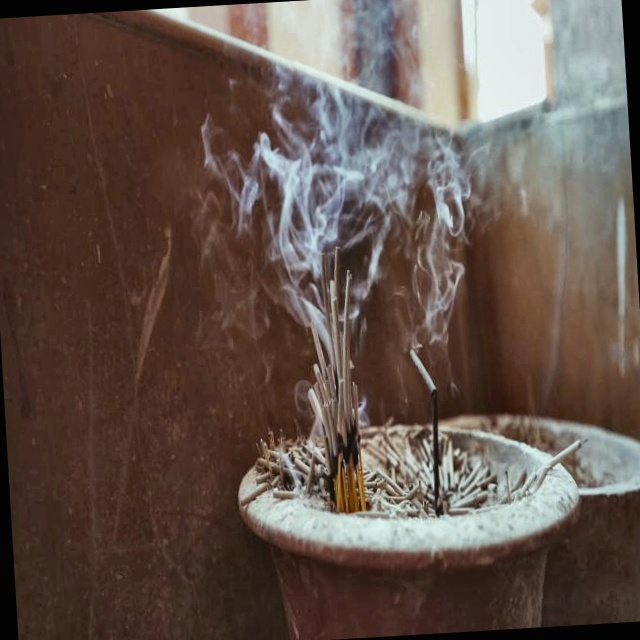smoke: (244, 74, 488, 296)
